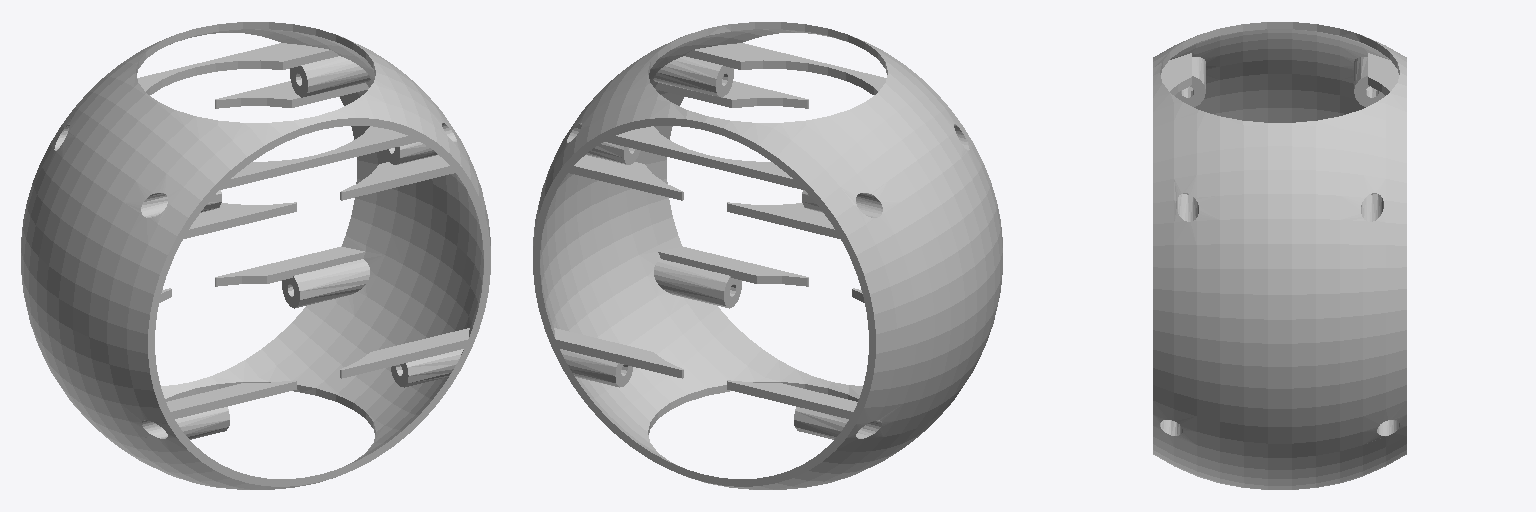
The model's file is left_arm_link6.obj.
3 renders of one model, left to right at view 1: azimuth 30°, elevation 25°; view 2: azimuth 150°, elevation 25°; view 3: azimuth 270°, elevation 25°, orthographic.
Parts seen in each view (by area): view 1: Link6; view 2: Link6; view 3: Link6.
Boxes of the visible parts, x1,y1,x2,y2 form: Link6: [21, 22, 490, 489]; Link6: [533, 22, 1002, 489]; Link6: [1153, 22, 1406, 489].
Size of the model in its own units: 0.1017 by 0.0878 by 0.055.